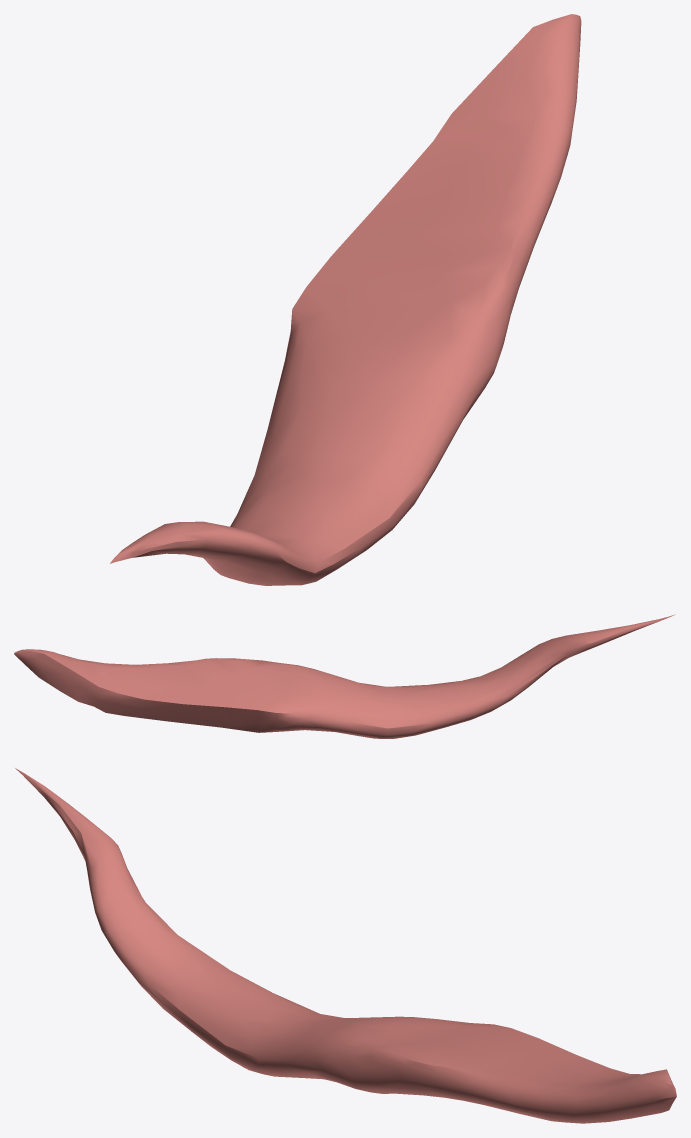
Rendered from fma37483_mm1738m.glb.
3 renders of one model, top to bottom at view 1: azimuth 30°, elevation 25°; view 2: azimuth 150°, elevation 25°; view 3: azimuth 270°, elevation 25°, orthographic. The views are drawn at different scales.
Parts seen in each view (by area): view 1: FMA37483_MM1738M; view 2: FMA37483_MM1738M; view 3: FMA37483_MM1738M.
Boxes of the visible parts, left/top/right/bottom form: FMA37483_MM1738M: left=110, top=14, right=581, bottom=585; FMA37483_MM1738M: left=14, top=614, right=675, bottom=738; FMA37483_MM1738M: left=15, top=768, right=676, bottom=1123.
Size of the model in its own units: 0.0484 by 0.0112 by 0.0399.
